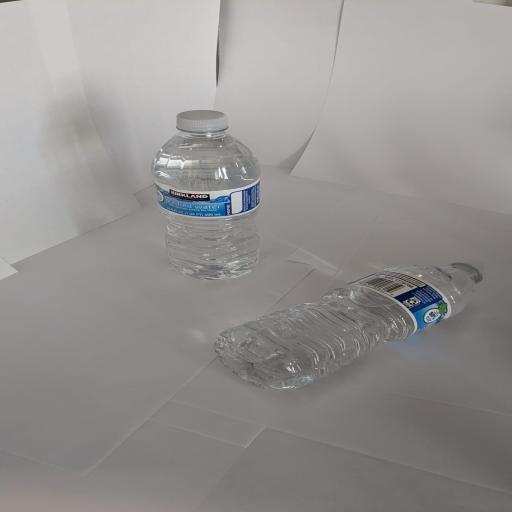waterbottle: (216, 263, 482, 388), (154, 111, 260, 279)
